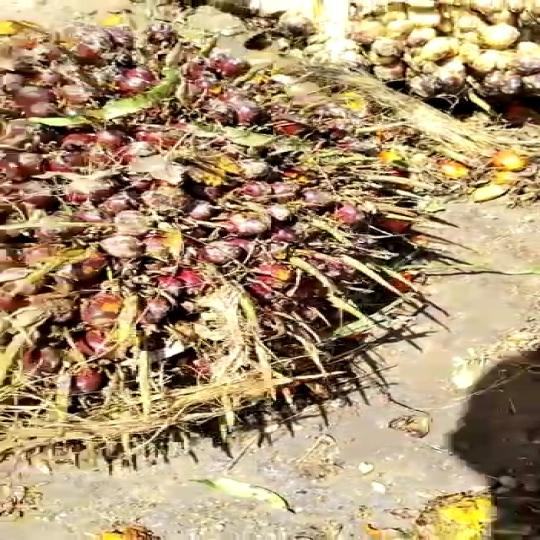masak: (0, 10, 428, 461)
